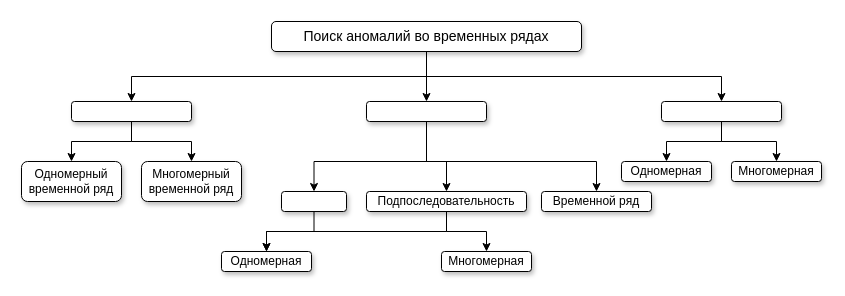
Image size: 845x296. Some labels were removed from this diagram. The centre of each missing label's shape, as x and y in pixels:
"Входные данные" goes at point 132,112.
"Основа метода" goes at point 722,112.
"Тип аномалии" goes at point 427,112.
"Точка" goes at point 314,202.
